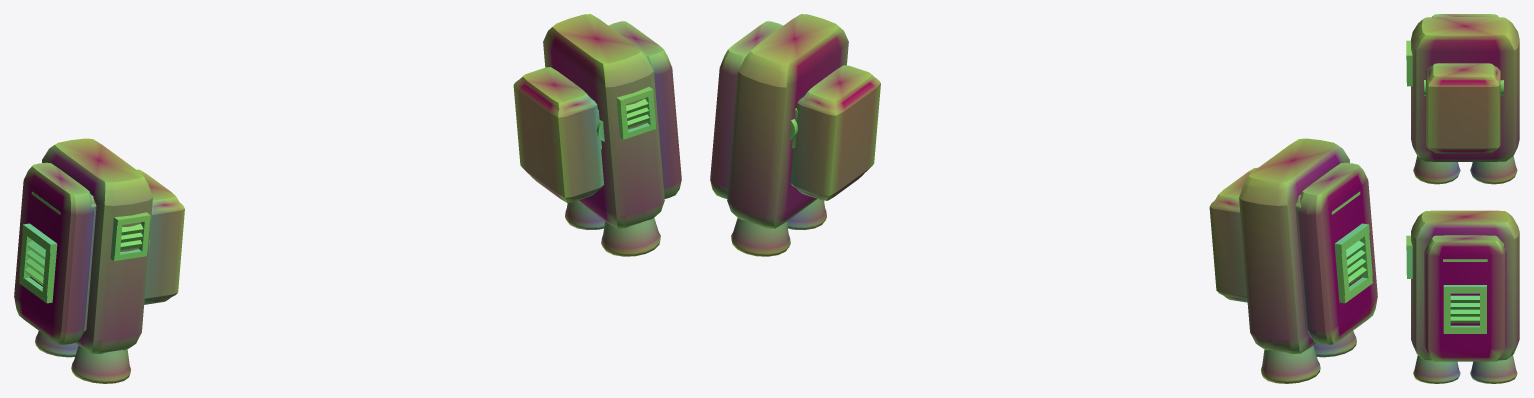
The model's file is llm_gen_leg_thrusters_037_4fc8bd.glb.
The picture shows the model from 3 angles, left to right: view 1: azimuth 30°, elevation 25°; view 2: azimuth 150°, elevation 25°; view 3: azimuth 270°, elevation 25°; orthographic projection. The views are drawn at different scales.
Visible parts, largest first — view 1: greave_pylon_0_adapter_dark_r, greave_pylon_0_adapter_dark_l, lateral_binder_shroud_2_wing_white_l, adapter_calf_clamp_r, adapter_calf_clamp_l, lateral_binder_shroud_2_wing_white_r, ankle_vector_bell_b_7_vernier_bell_vernier_l, ankle_vector_bell_b_7_vernier_bell_vernier_r, adapter_sub_binder_side_vent_3_dark_l, adapter_sub_greave_intake_grille_5_dark_l, adapter_sub_greave_intake_grille_5_dark_r, ankle_vector_bell_a_6_vernier_bell_vernier_r (+2 smaller); view 2: greave_pylon_0_adapter_dark_r, greave_pylon_0_adapter_dark_l, lateral_binder_shroud_2_wing_white_l, adapter_calf_clamp_r, lateral_binder_shroud_2_wing_white_r, adapter_calf_clamp_l, ankle_vector_bell_a_6_vernier_bell_vernier_l, ankle_vector_bell_a_6_vernier_bell_vernier_r, adapter_sub_binder_side_vent_3_dark_l, ankle_vector_bell_b_7_vernier_bell_vernier_r, binder_side_vent_3_intake_gold_l, ankle_vector_bell_b_7_vernier_bell_vernier_l; view 3: greave_pylon_0_adapter_dark_l, lateral_binder_shroud_2_wing_white_r, adapter_calf_clamp_l, greave_pylon_0_adapter_dark_r, adapter_sub_binder_side_vent_3_dark_r, ankle_vector_bell_a_6_vernier_bell_vernier_r, ankle_vector_bell_b_7_vernier_bell_vernier_r, ankle_vector_bell_a_6_vernier_bell_vernier_l, ankle_vector_bell_b_7_vernier_bell_vernier_l, binder_side_vent_3_intake_gold_r, adapter_sub_greave_intake_grille_5_dark_l, adapter_sub_greave_intake_grille_5_dark_r (+2 smaller).
Part boxes in pixels (x1,y1,x2,y2): greave_pylon_0_adapter_dark_r: (543,14,664,228); greave_pylon_0_adapter_dark_l: (42,138,152,353); lateral_binder_shroud_2_wing_white_l: (14,162,93,344); adapter_calf_clamp_r: (513,67,603,202); adapter_calf_clamp_l: (136,169,184,304); lateral_binder_shroud_2_wing_white_r: (608,21,681,198); ankle_vector_bell_b_7_vernier_bell_vernier_l: (71,345,130,383); ankle_vector_bell_b_7_vernier_bell_vernier_r: (601,218,660,256); adapter_sub_binder_side_vent_3_dark_l: (19,223,57,303); adapter_sub_greave_intake_grille_5_dark_l: (110,212,150,260); adapter_sub_greave_intake_grille_5_dark_r: (616,86,655,139); ankle_vector_bell_a_6_vernier_bell_vernier_r: (565,201,604,229); greave_pylon_0_adapter_dark_r: (727,14,848,228); greave_pylon_0_adapter_dark_l: (1239,138,1349,353); lateral_binder_shroud_2_wing_white_l: (1298,162,1377,344); adapter_calf_clamp_r: (790,65,880,200); lateral_binder_shroud_2_wing_white_r: (710,21,783,198); adapter_calf_clamp_l: (1209,167,1257,302); ankle_vector_bell_a_6_vernier_bell_vernier_l: (1261,345,1320,383); ankle_vector_bell_a_6_vernier_bell_vernier_r: (731,218,790,256); adapter_sub_binder_side_vent_3_dark_l: (1334,223,1372,303); ankle_vector_bell_b_7_vernier_bell_vernier_r: (787,199,826,229); binder_side_vent_3_intake_gold_l: (1346,240,1366,285); ankle_vector_bell_b_7_vernier_bell_vernier_l: (1313,331,1356,357); greave_pylon_0_adapter_dark_l: (1411,17,1519,161); lateral_binder_shroud_2_wing_white_r: (1424,235,1506,361); adapter_calf_clamp_l: (1426,63,1500,153); greave_pylon_0_adapter_dark_r: (1411,210,1519,360); adapter_sub_binder_side_vent_3_dark_r: (1443,285,1486,333); ankle_vector_bell_a_6_vernier_bell_vernier_r: (1470,355,1517,383); ankle_vector_bell_b_7_vernier_bell_vernier_r: (1413,355,1460,383); ankle_vector_bell_a_6_vernier_bell_vernier_l: (1470,156,1517,184); ankle_vector_bell_b_7_vernier_bell_vernier_l: (1413,156,1460,184); binder_side_vent_3_intake_gold_r: (1450,295,1479,323); adapter_sub_greave_intake_grille_5_dark_l: (1406,40,1412,86); adapter_sub_greave_intake_grille_5_dark_r: (1406,235,1412,278).
Bounding box in the file's own units: 84.2 × 25.43 × 16.74.
